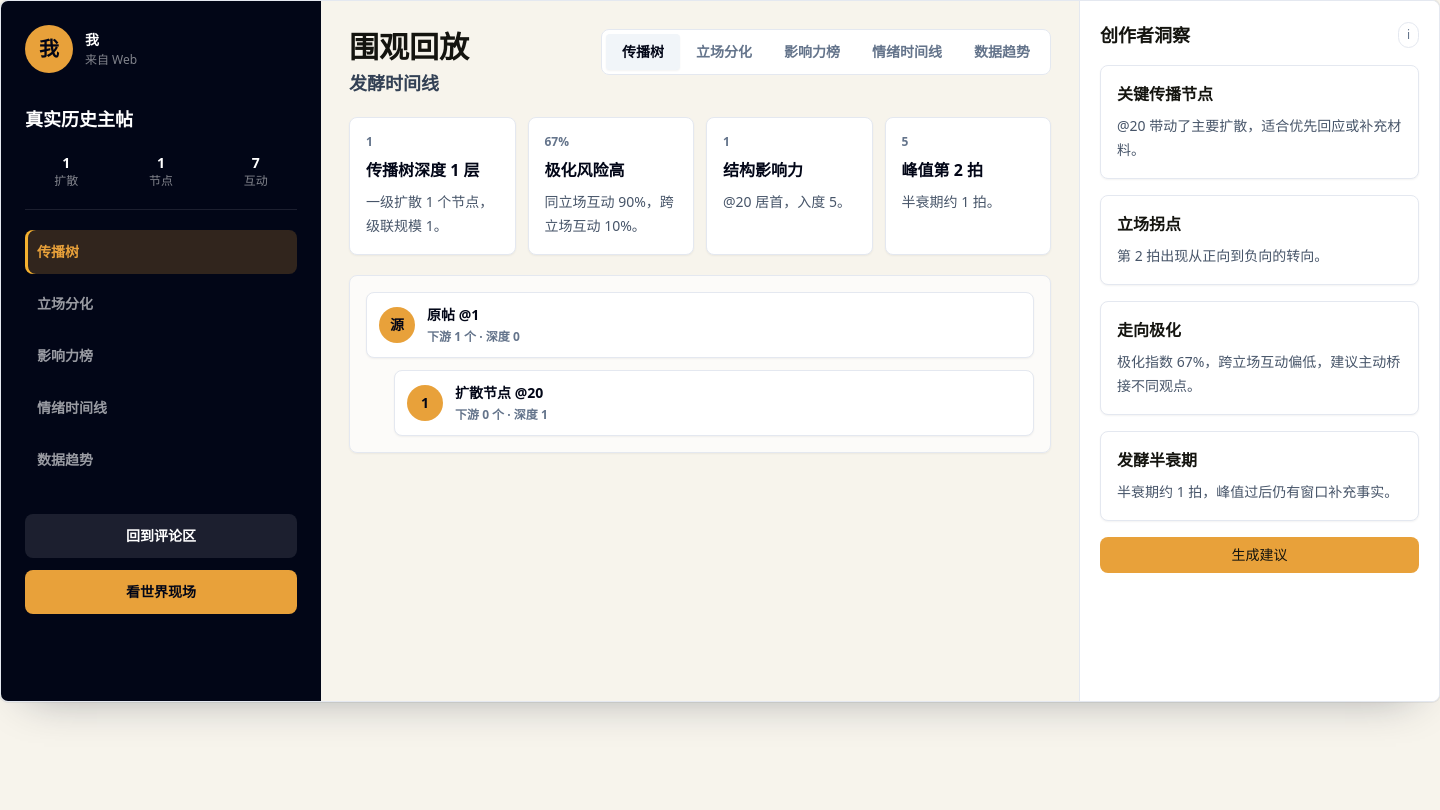
Test: retro switches method-family views
Expected: the text "原帖 @1" is shown, left=427, top=305, right=479, bottom=324
What coordinates should you click on to do the following:
click the button "立场分化" below "真实历史主帖"
I would click on:
 (65, 304)
Its box is left=25, top=282, right=297, bottom=326.
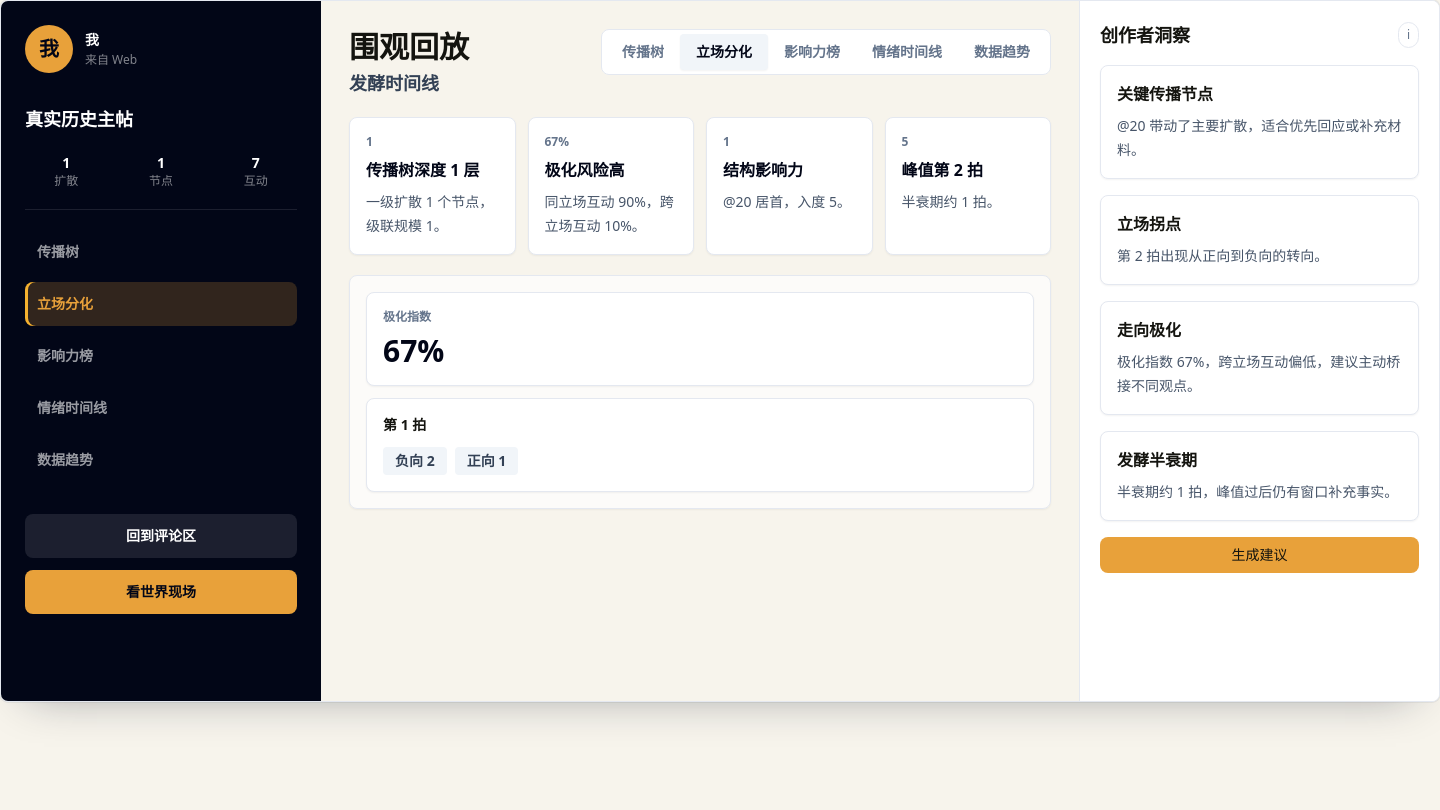
Result: the text "负向 2" is shown at left=383, top=447, right=447, bottom=475
What coordinates should you click on to do the following:
click the button "影响力榜" below "真实历史主帖"
I would click on:
 (65, 356)
Its box is left=25, top=334, right=297, bottom=378.
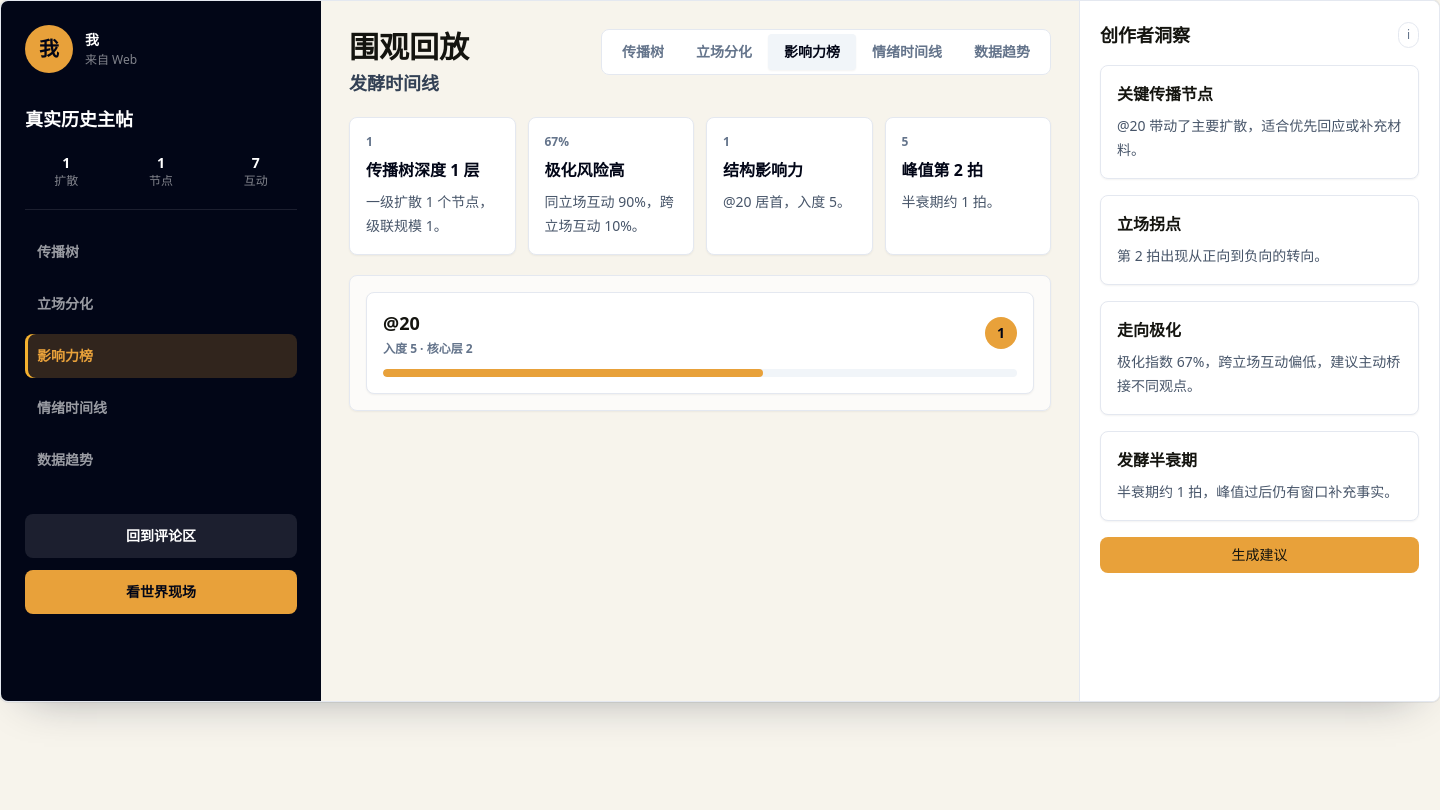
Result: the text "入度 5 · 核心层 2" is shown at left=383, top=341, right=473, bottom=357
What coordinates should you click on to do the following:
click the button "情绪时间线" below "真实历史主帖"
I would click on:
 (72, 408)
Its box is left=25, top=386, right=297, bottom=430.
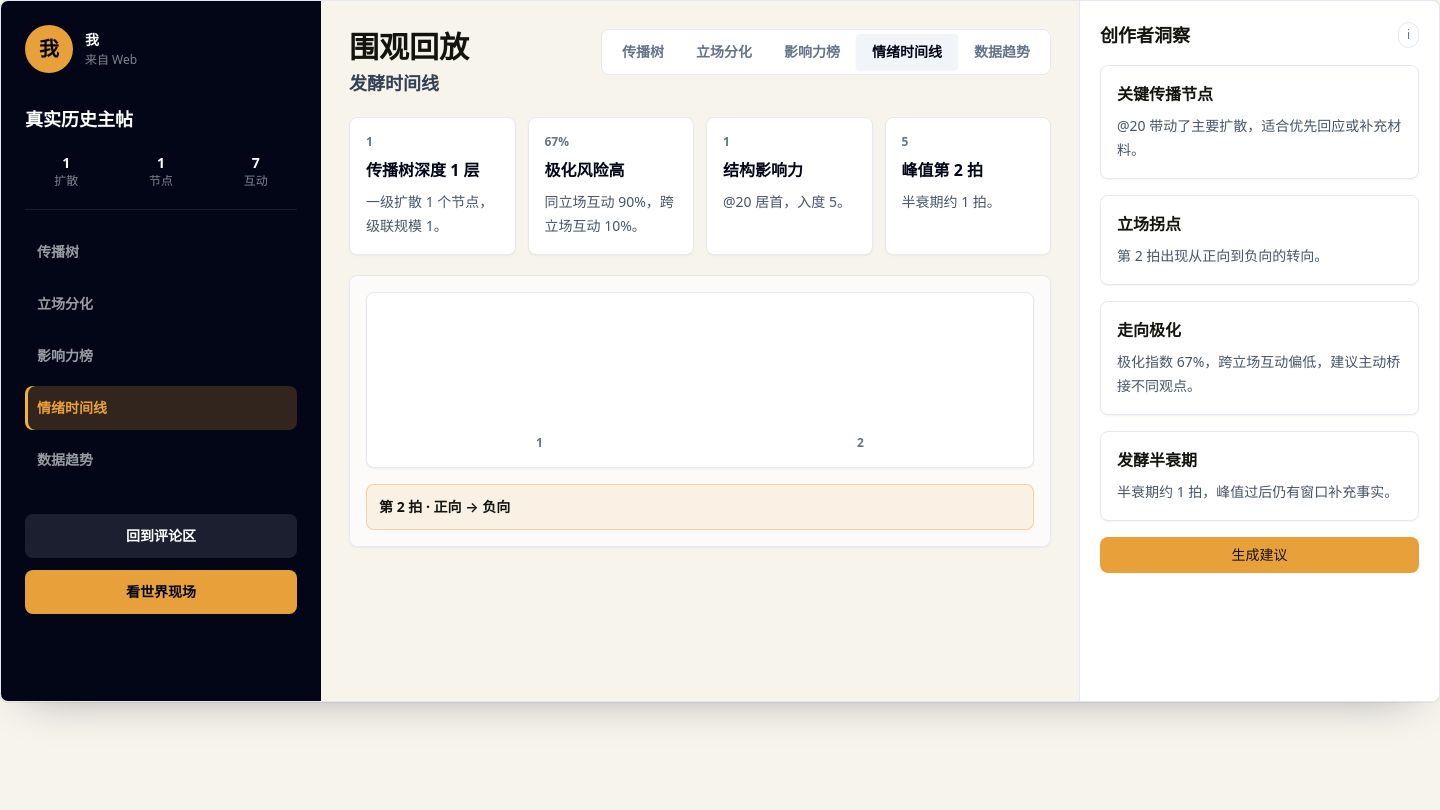
Result: the text "第 2 拍 · 正向 → 负向" is shown at left=366, top=484, right=1034, bottom=530
